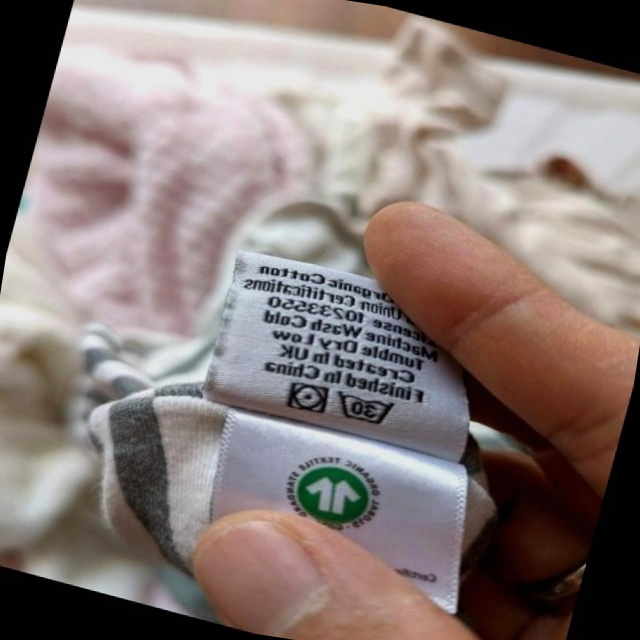30C: (328, 383, 402, 434)
tumble_dry_low: (281, 375, 334, 421)
